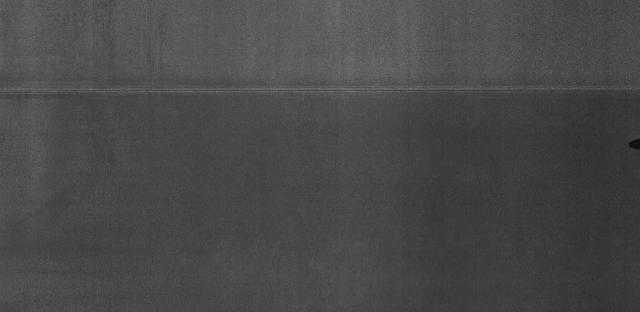punching_hole: (627, 137, 640, 152)
welding_line: (0, 82, 640, 101)
